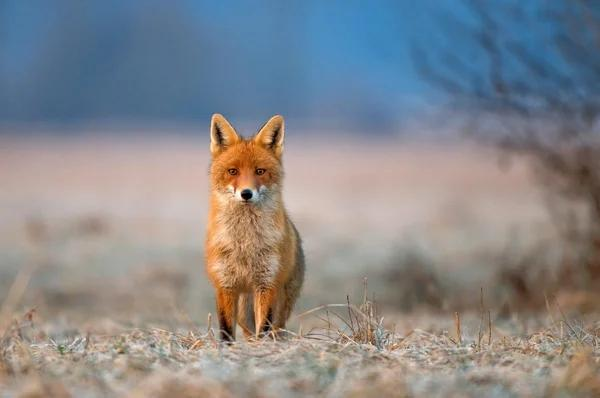fox: (204, 109, 312, 338)
